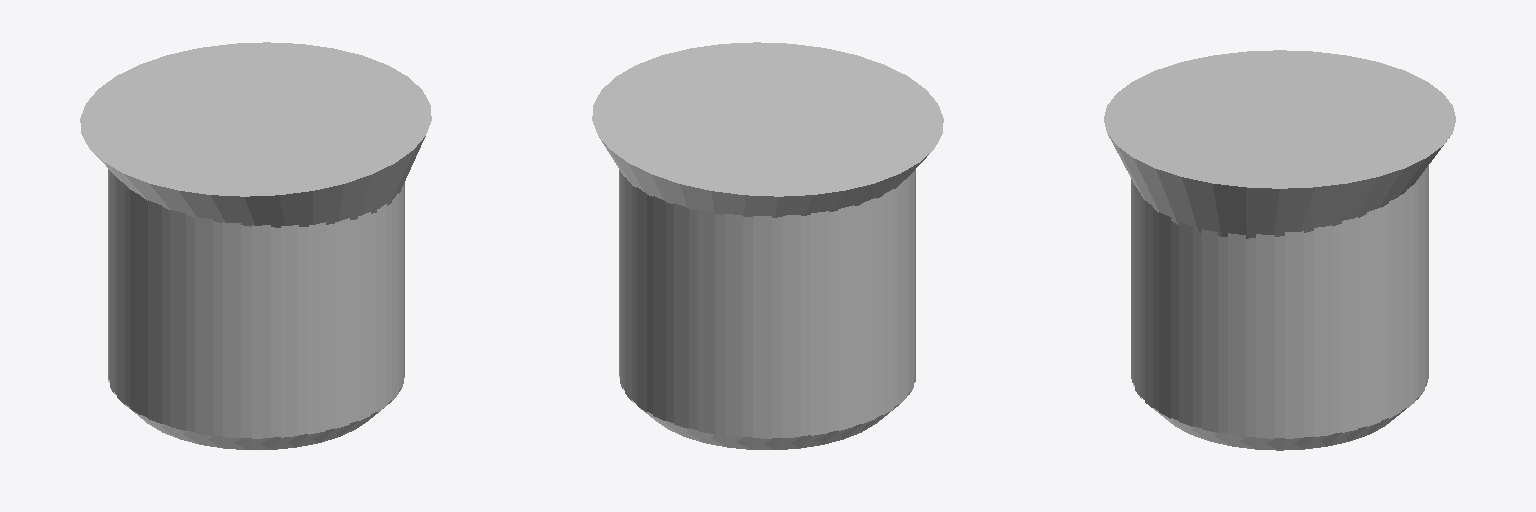
Rendered from table.obj.
3 views of the same model, side by side, from view 1: azimuth 30°, elevation 25°; view 2: azimuth 150°, elevation 25°; view 3: azimuth 270°, elevation 25° (orthographic).
Visible parts, largest first — view 1: Cylinder; view 2: Cylinder; view 3: Cylinder.
Part boxes in pixels (bbox=[...]): Cylinder: bbox=[80, 42, 431, 449]; Cylinder: bbox=[592, 42, 943, 449]; Cylinder: bbox=[1104, 50, 1455, 450].
Bounding box in the file's own units: 2.36 × 2.1 × 2.36.